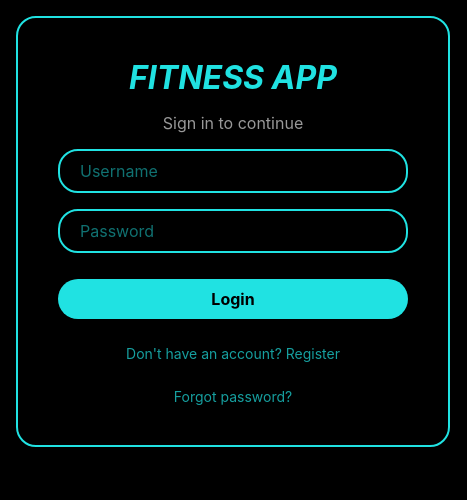
Scenario: LoginPage › shows error if login fields empty
This screenshot has width=467, height=500.
Step 1. Click the button "Login" → (233, 299), box x1=58 y1=279 x2=408 y2=319
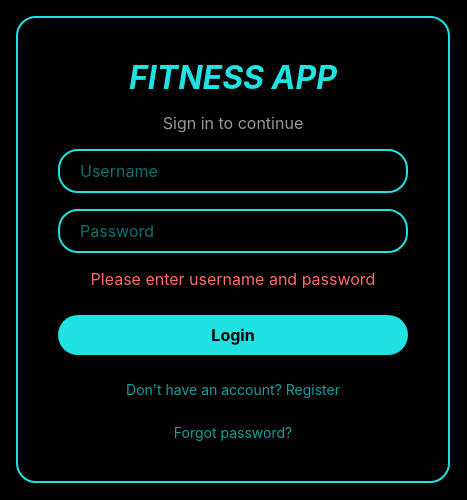
Check: the text "Please enter username and password" is shown, box x1=91 y1=269 x2=376 y2=289
